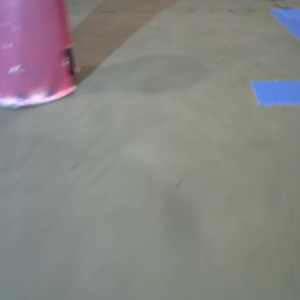middle: (1, 1, 77, 109)
